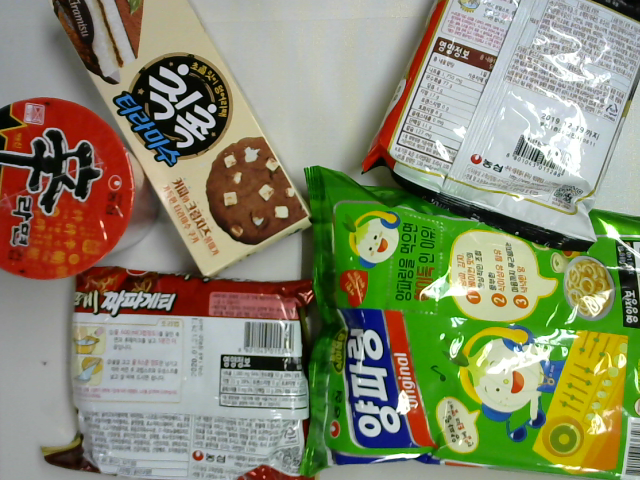Chicchok_Tiramisu: (46, 1, 316, 282)
Oninon_Ring: (303, 162, 639, 480)
Potato: (355, 1, 639, 262)
Sichuan_Chapaghetti: (41, 262, 318, 480)
Sinramen_small: (1, 97, 158, 282)
